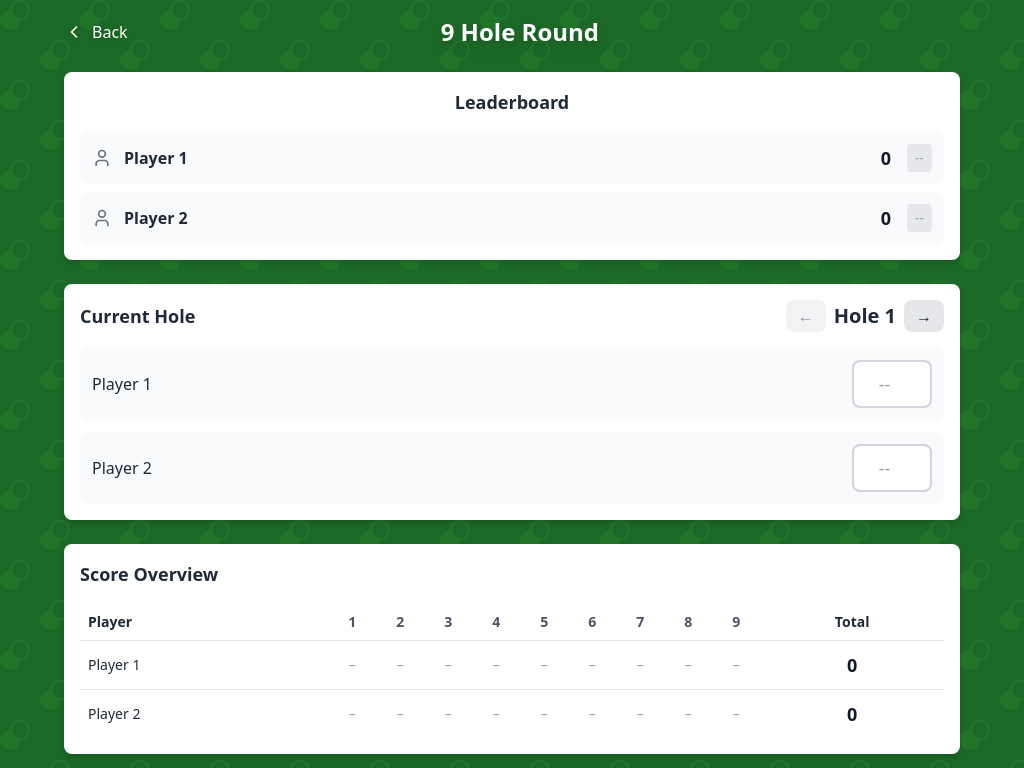
Test: ScoreCard Multiplayer Component › Score Input › updates leaderboard when scores change
# Player 1 scores 4
Type "4" into the 1st number field with placeholder "--" at x=892, y=384, box [852, 360, 932, 408]
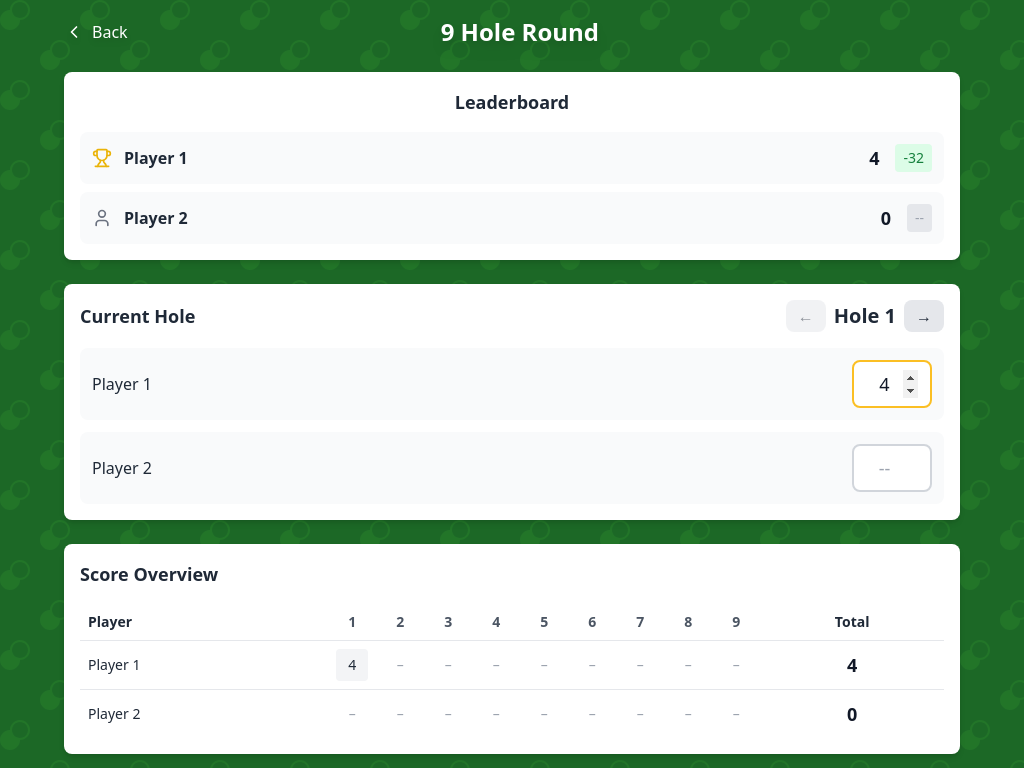
Expected: the text "4" next to "-32" is shown, [869, 146, 880, 170]
